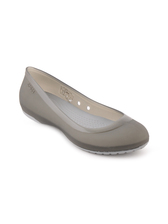shoes: (17, 65, 151, 157)
